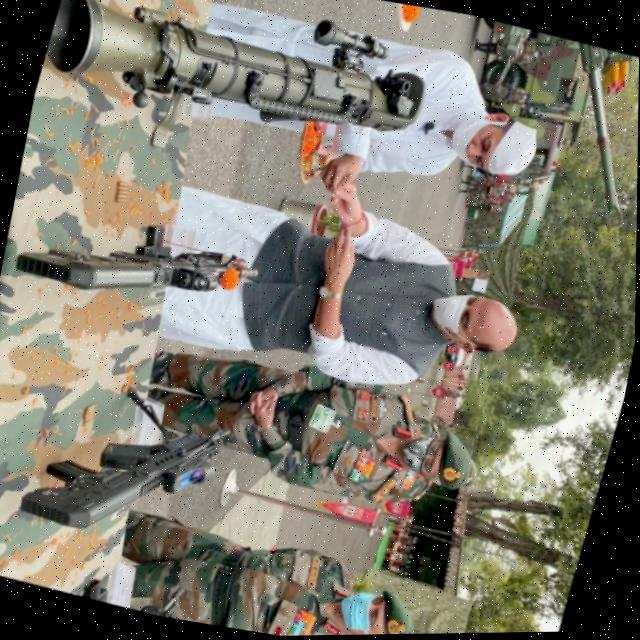rocket: (25, 0, 442, 207)
